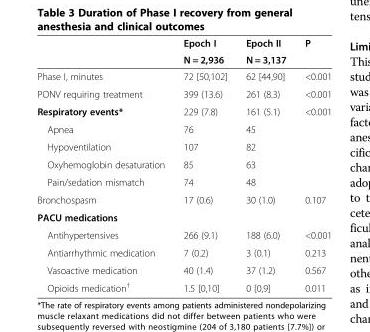table: (36, 36, 331, 293)
table column: (36, 36, 173, 293), (173, 36, 235, 293), (235, 36, 294, 293), (294, 36, 331, 293)
table column header: (36, 36, 331, 67)
table projected row header: (36, 208, 331, 225)
table row: (36, 84, 331, 102), (36, 102, 331, 120), (36, 137, 331, 155), (36, 172, 331, 190), (36, 190, 331, 208), (36, 225, 331, 243), (36, 243, 331, 261), (36, 50, 331, 67), (36, 67, 331, 84), (36, 120, 331, 137), (36, 155, 331, 172), (36, 208, 331, 225), (36, 261, 331, 277), (36, 277, 331, 293), (36, 36, 331, 50)
table spanning cell: (173, 36, 235, 67), (235, 36, 294, 67), (294, 36, 331, 67)
